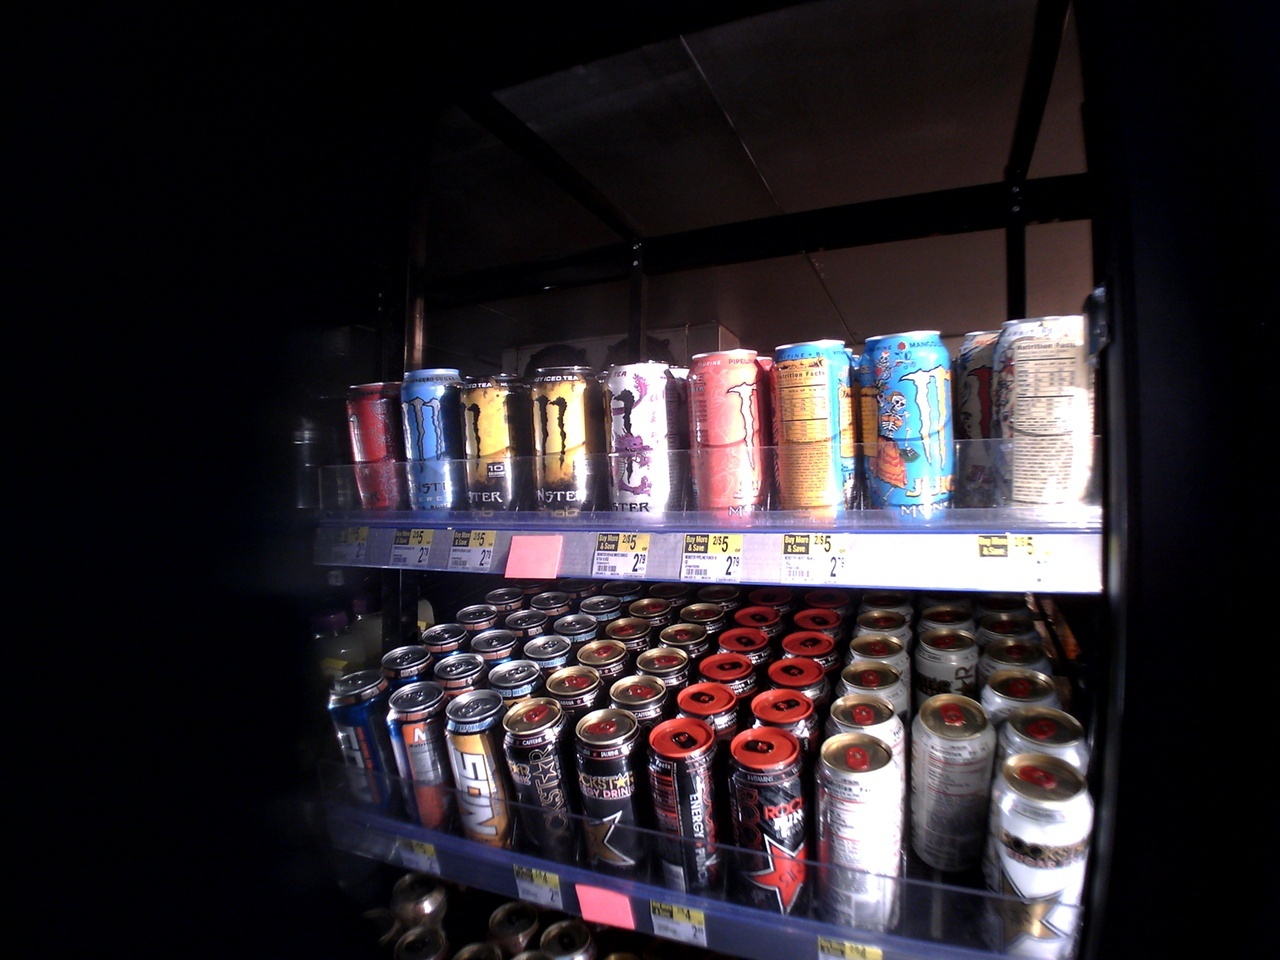shelf: (285, 573, 1127, 960), (263, 317, 1109, 555)
